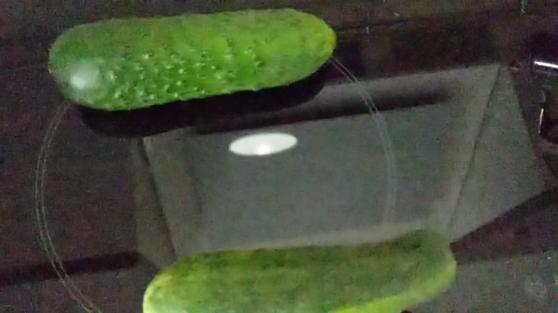cucumber: (52, 8, 346, 117), (134, 224, 469, 313)
